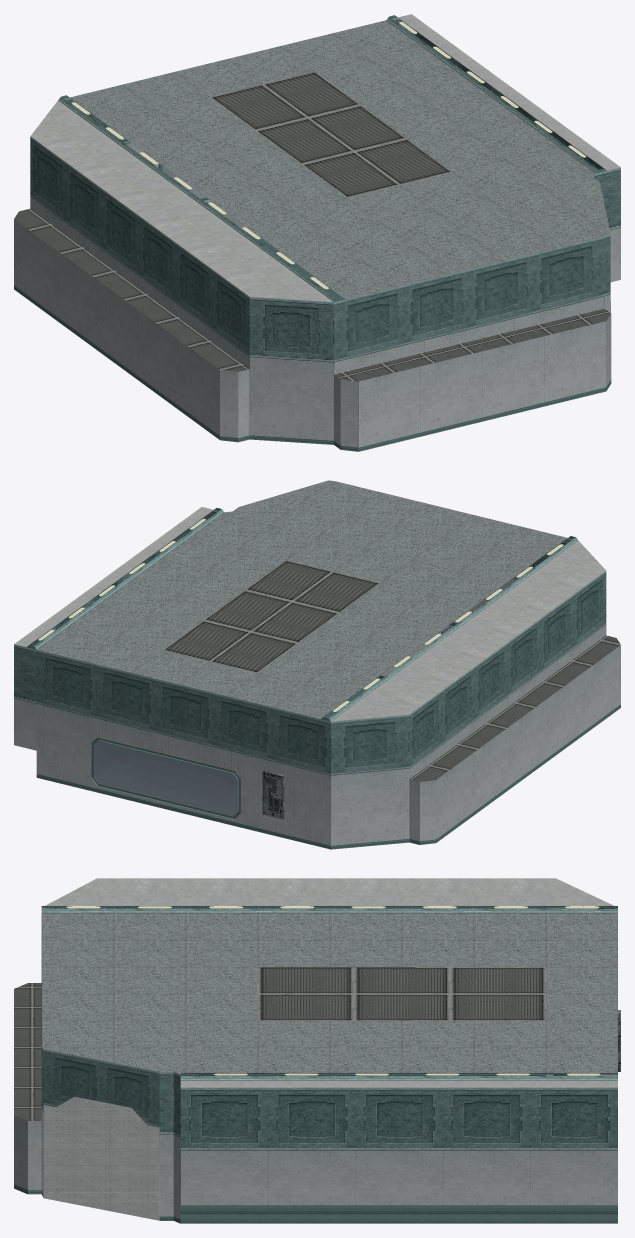
File: mun_nboo_cloning_s01_r2_insurance_mesh_r2.fbx
3 views of the same model, one above another, from view 1: azimuth 30°, elevation 25°; view 2: azimuth 150°, elevation 25°; view 3: azimuth 270°, elevation 25° (orthographic). The views are drawn at different scales.
Visible parts, largest first — view 1: mesh_node; view 2: mesh_node; view 3: mesh_node.
Part boxes in pixels (x1,y1,x2,y2): mesh_node: [14, 14, 620, 451]; mesh_node: [14, 480, 620, 849]; mesh_node: [14, 878, 620, 1223].
Bounding box in the file's own units: 18.85 × 6.18 × 21.85.
